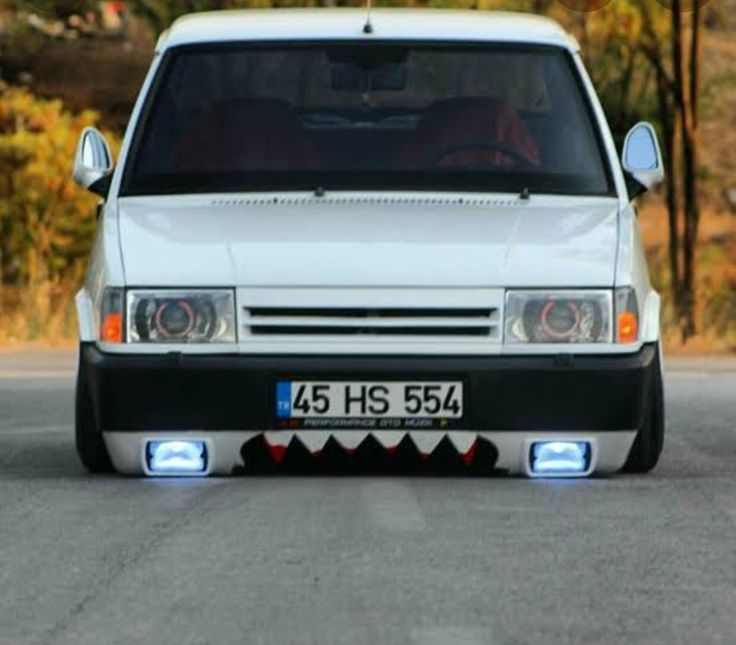plate: (275, 382, 462, 421)
